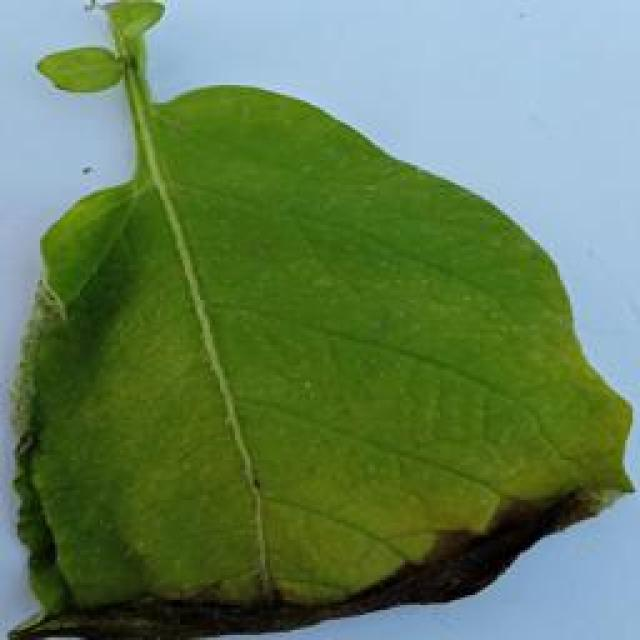Potato_Late_Blight: (8, 6, 630, 634)
